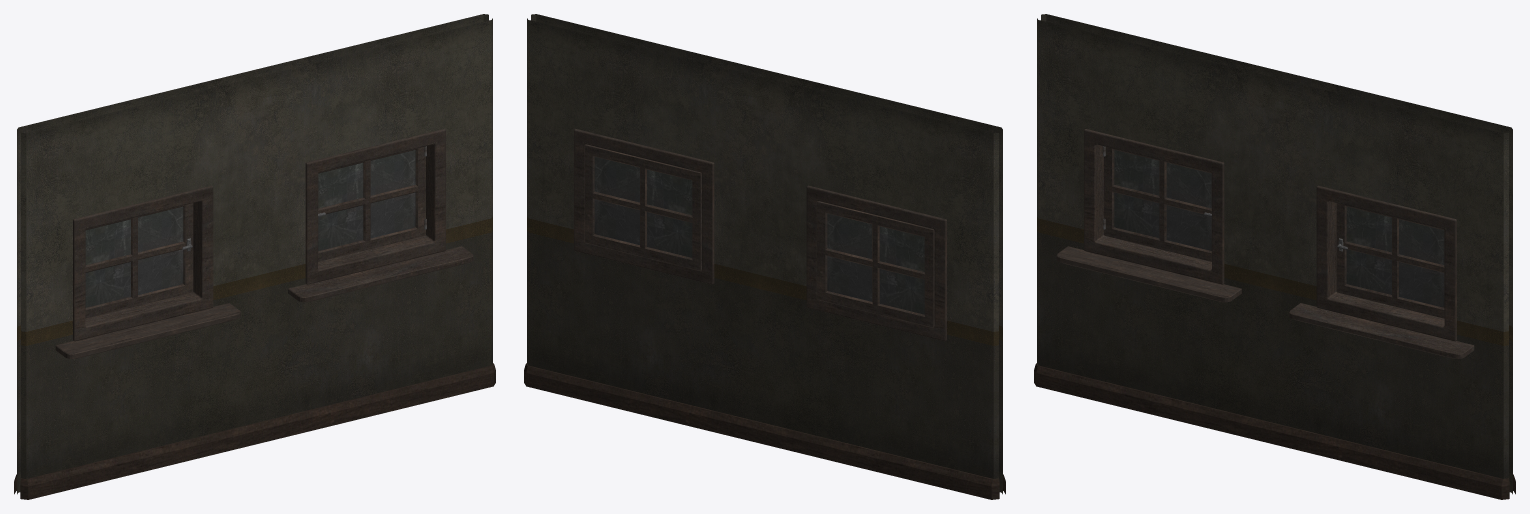
Rendered from window_1_double.fbx.
The picture shows the model from 3 angles, left to right: view 1: azimuth 30°, elevation 25°; view 2: azimuth 150°, elevation 25°; view 3: azimuth 330°, elevation 25°; orthographic projection.
Visible parts, largest first — view 1: window_1_double; view 2: window_1_double; view 3: window_1_double.
Boxes of the visible parts, x1,y1,x2,y2 form: window_1_double: (14,14,495,499); window_1_double: (524,14,1005,499); window_1_double: (1034,14,1515,499).
Bounding box in the file's own units: 409 × 300 × 35.
